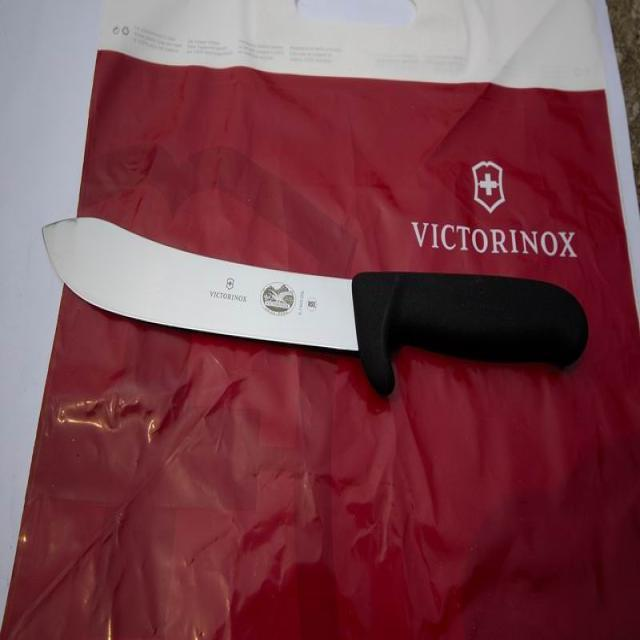Pisau: (30, 194, 594, 386)
